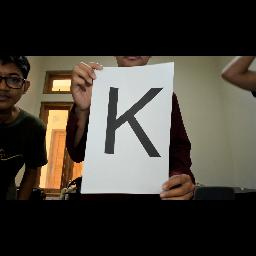k: (99, 80, 163, 164)
